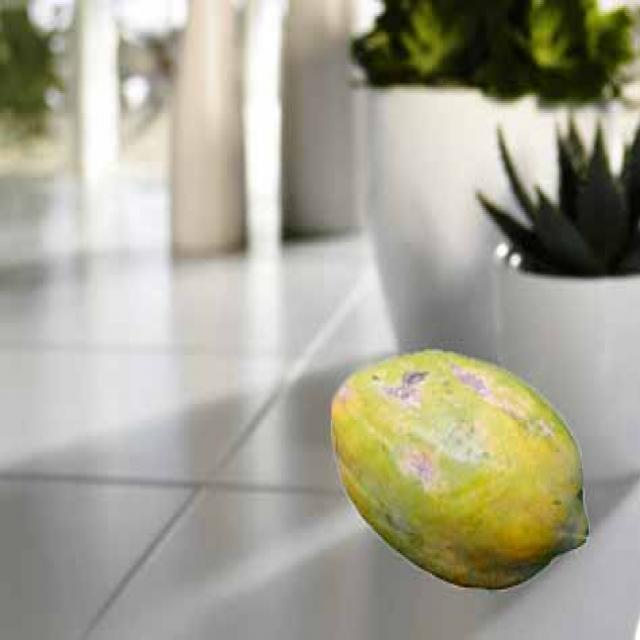Pepaya rippen: (323, 351, 606, 594)
